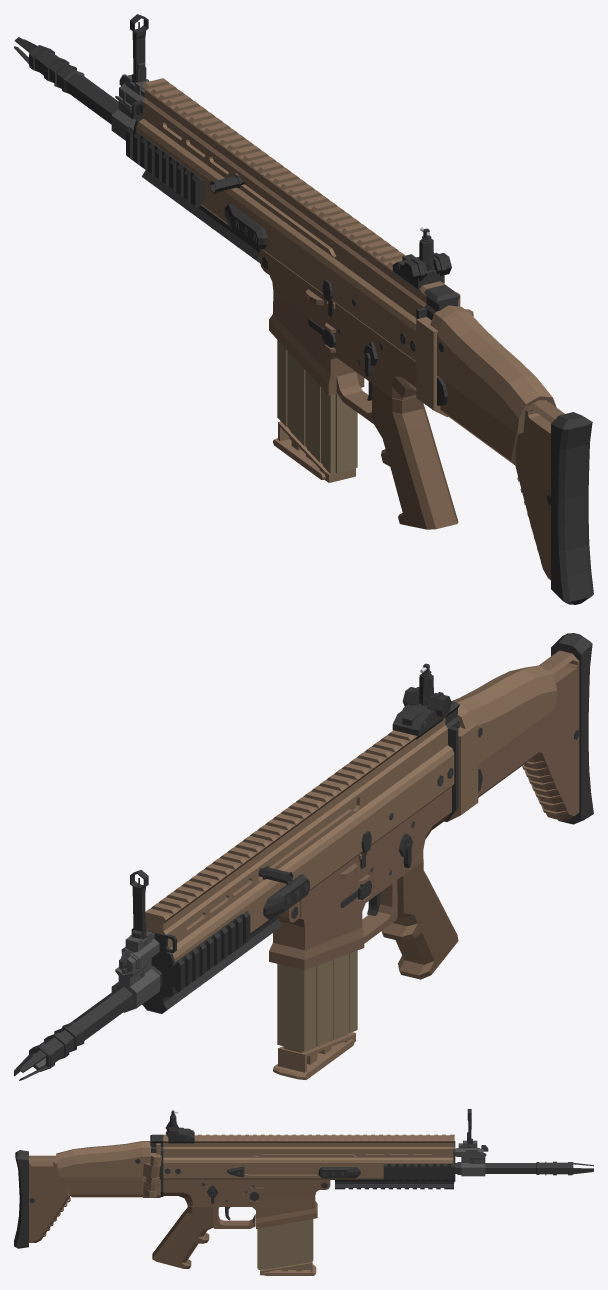
The model's file is Low-Poly FN SCAR H.fbx.
3 renders of one model, top to bottom at view 1: azimuth 30°, elevation 25°; view 2: azimuth 150°, elevation 25°; view 3: azimuth 270°, elevation 25°, orthographic. The views are drawn at different scales.
Visible parts, largest first — view 1: Cube.014, Cube.002, Cube.031, Cube.027, Cube, Cube.006, Cube.026, Cylinder.021, Cube.023, Cube.030, Cube.039, Cube.020 (+4 smaller); view 2: Cube.014, Cube.002, Cube.006, Cube.031, Cube.026, Cube, Cylinder.021, Cube.027, Cube.023, Cube.030, Cube.039, Cube.020 (+10 smaller); view 3: Cube.014, Cube.002, Cube.031, Cube.026, Cube.006, Cube, Cylinder.021, Cube.030, Cube.023, Cube.020, Cube.027, Cube.001 (+3 smaller).
Boxes of the visible parts, box(x1,y1,x2,y2) form: Cube.014: box(137, 78, 444, 361); Cube.002: box(259, 249, 416, 400); Cube.031: box(430, 305, 556, 433); Cube.027: box(551, 412, 593, 604); Cube: box(372, 384, 458, 529); Cube.006: box(277, 340, 357, 473); Cube.026: box(515, 400, 564, 579); Cylinder.021: box(14, 37, 135, 140); Cube.023: box(126, 127, 204, 208); Cube.030: box(440, 379, 518, 465); Cube.039: box(416, 292, 460, 417); Cube.020: box(142, 170, 260, 263); Cube.014: box(145, 715, 454, 989); Cube.002: box(269, 787, 451, 970); Cube.006: box(277, 950, 357, 1051); Cube.031: box(452, 665, 557, 764); Cube.026: box(523, 650, 579, 821); Cube: box(381, 859, 458, 979); Cylinder.021: box(14, 965, 161, 1080); Cube.027: box(551, 633, 593, 824); Cube.023: box(169, 911, 250, 992); Cube.030: box(478, 714, 547, 797); Cube.039: box(444, 723, 478, 821); Cube.020: box(142, 915, 282, 1013); Cube.014: box(163, 1134, 454, 1179); Cube.002: box(163, 1179, 330, 1228); Cube.031: box(56, 1141, 150, 1177); Cube.026: box(29, 1155, 70, 1242); Cube.006: box(257, 1219, 313, 1269); Cube: box(152, 1205, 213, 1268); Cylinder.021: box(455, 1161, 593, 1176); Cube.030: box(64, 1177, 142, 1197); Cube.023: box(383, 1164, 455, 1180); Cube.020: box(330, 1179, 453, 1189); Cube.027: box(14, 1150, 28, 1248); Cube.001: box(213, 1207, 255, 1228).
Size of the model in its own units: 61.75 by 278 by 897.
